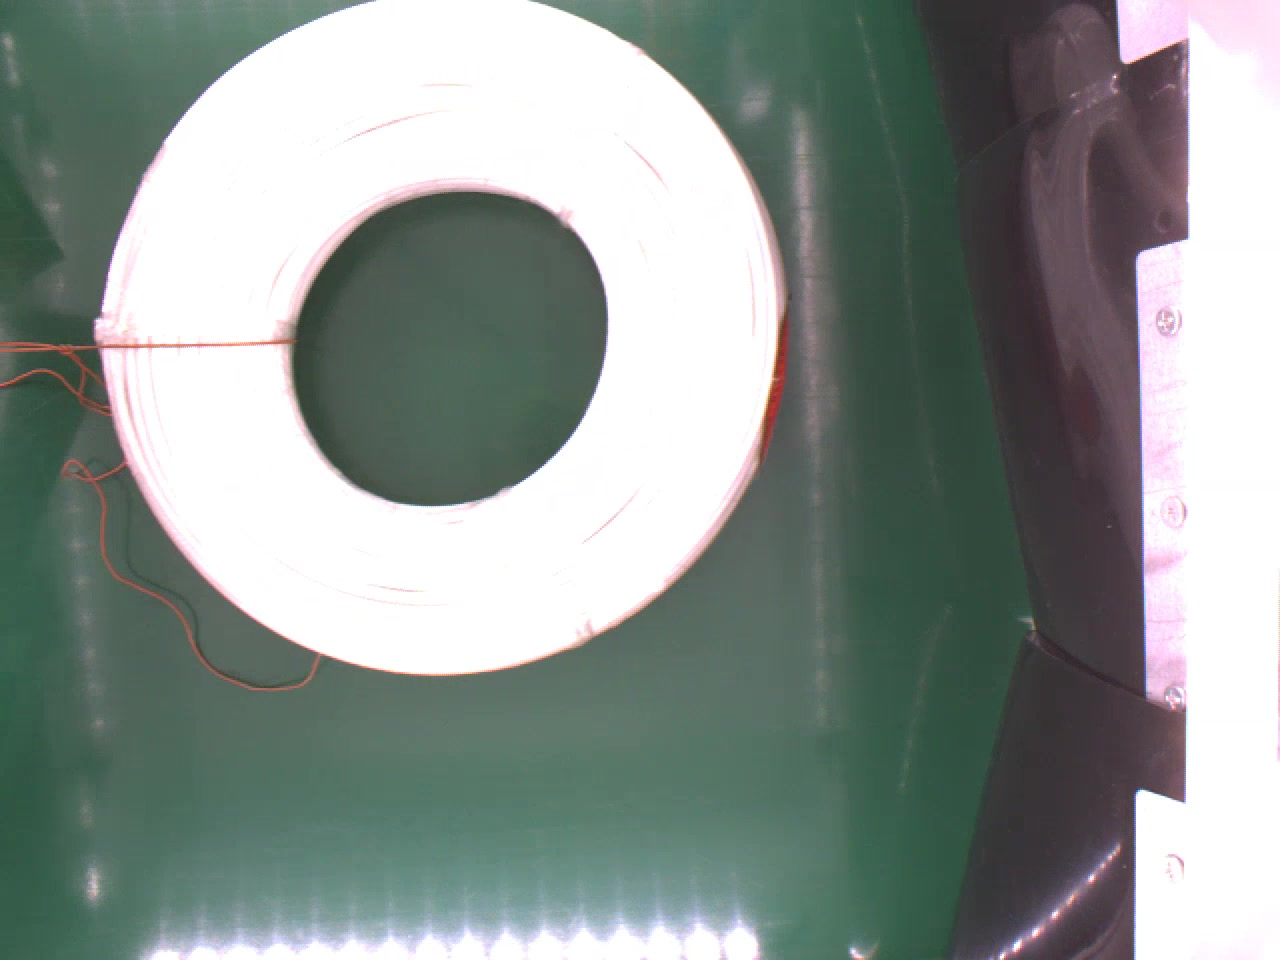white: (90, 0, 790, 682)
